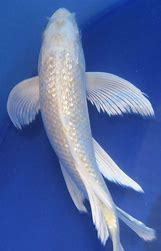white: (5, 8, 158, 251)
